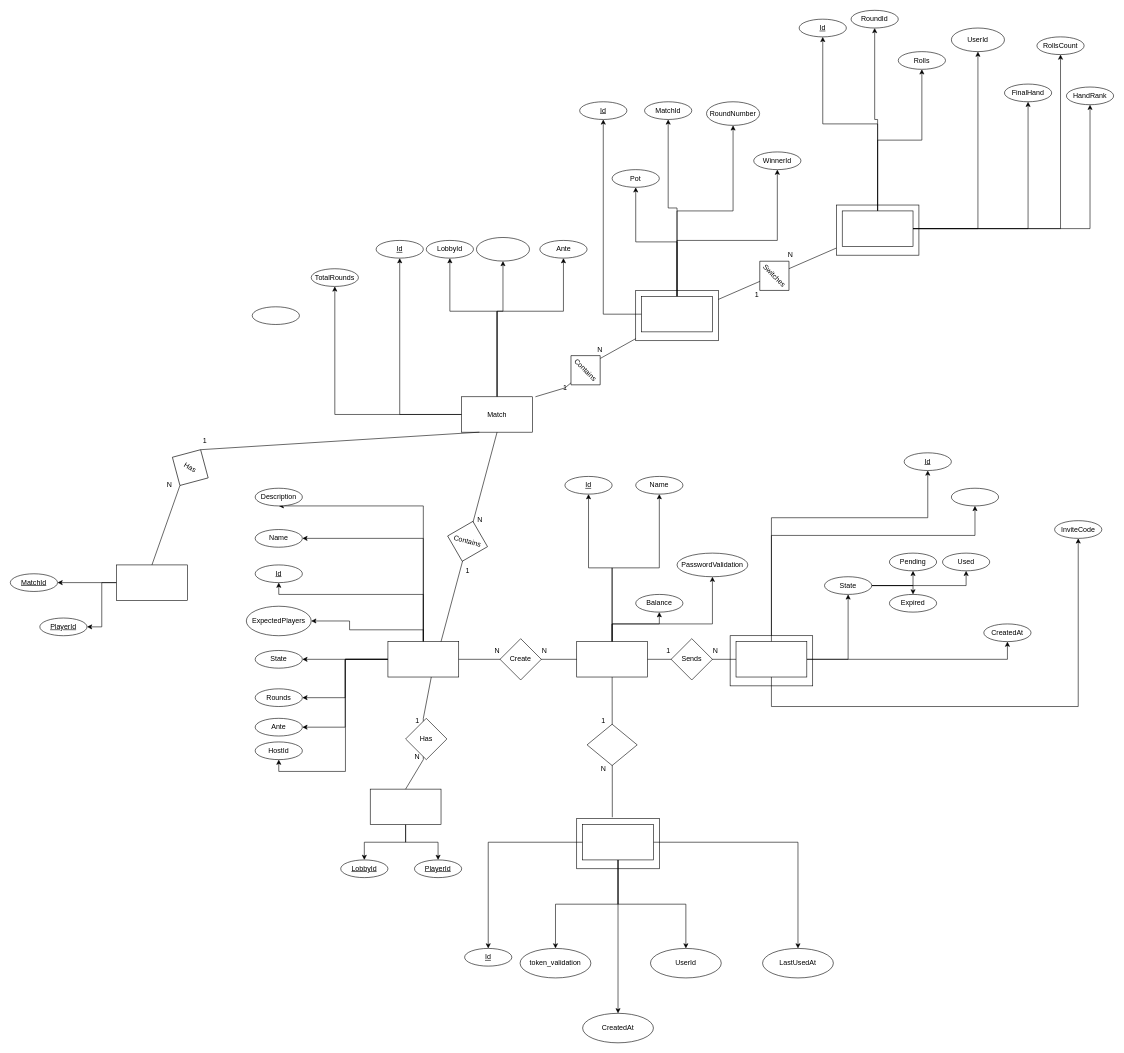
This 1124x1053 diagram has some shape labels left out. The shapes that lost their labels are listed below. From the top down, each one's box as (x1, y1, x2, y2) in pixels, then its label:
(842, 210, 913, 246): Turn
(476, 237, 530, 261): currentRound
(252, 306, 299, 324): Status
(641, 296, 712, 332): Round
(951, 488, 999, 506): InviteId
(116, 564, 187, 600): Match_Player
(387, 641, 459, 677): Lobby
(576, 641, 648, 677): User
(735, 641, 807, 677): AppInvite
(586, 724, 637, 766): Associated
(370, 789, 441, 825): Lobby_Player
(582, 824, 653, 860): Token
